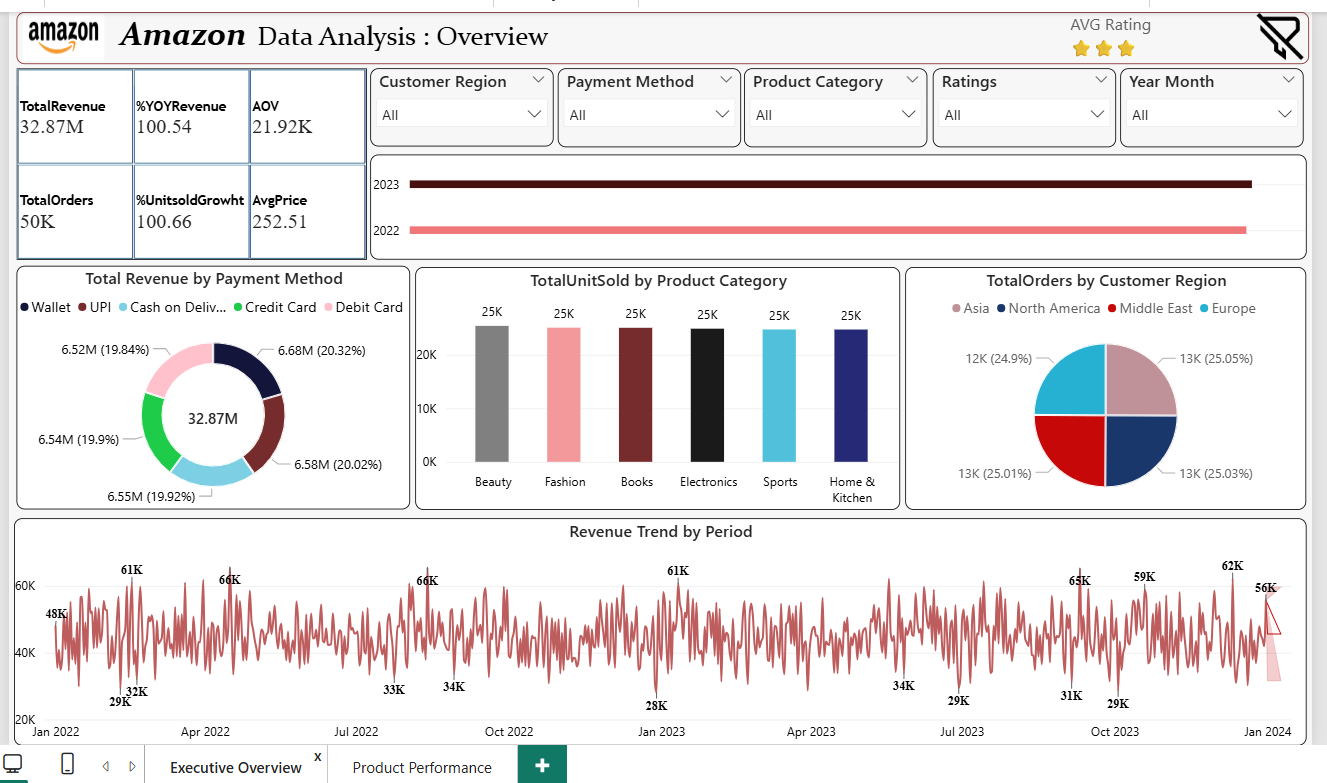

Layout of this report page (visuals, bound fields, positions):
{"tool":"powerbi","page":{"name":"Executive Overview","canvas":[1280,720],"ordinal":0},"visuals":[{"type":"textbox","box":[7.4,0,1268.7,51.5],"z":0,"group":"g2"},{"type":"cardVisual","fields":{"Data":["measure_tbl.TotalRevenue","measure_tbl.%YOYRevenue","measure_tbl.AOV","measure_tbl.TotalOrders","measure_tbl.%UnitsoldGrowht","measure_tbl.AvgPrice"]},"box":[7.4,55.2,344,189],"z":0},{"type":"donutChart","title":"Total Revenue by Payment Method","fields":{"Category":["Amazon_dt.payment_method"],"Y":["measure_tbl.TotalRevenue"]},"box":[7.4,249.1,386.5,239.3],"z":0,"group":"g1"},{"type":"image","box":[13.5,2.5,79.8,45.4],"z":1000,"group":"g2"},{"type":"cardVisual","fields":{"Data":["measure_tbl.TotalRevenue"]},"box":[175.1,386.4,65,30.7],"z":1000,"group":"g1"},{"type":"lineChart","title":"Revenue Trend by Period","fields":{"Category":["calendar_tbl.date"],"Y":["measure_tbl.TotalRevenue"]},"box":[4.9,496.7,1268.7,223.3],"z":1000},{"type":"cardVisual","fields":{"Data":["measure_tbl.Star_Rating"]},"box":[1041.8,0,98.2,47.9],"z":2000,"group":"g2"},{"type":"clusteredBarChart","fields":{"Category":["calendar_tbl.year"],"Y":["measure_tbl.TotalUnitSold"]},"box":[354.6,139.9,919,103.1],"z":2000},{"type":"image","box":[1224.6,0,46.6,47.9],"z":3000,"group":"g2"},{"type":"clusteredColumnChart","title":"TotalUnitSold by Product Category","fields":{"Category":["Amazon_dt.product_category"],"Y":["measure_tbl.TotalUnitSold"]},"box":[398.8,250.3,476.1,238],"z":3000},{"type":"pieChart","title":"TotalOrders by Customer Region","fields":{"Category":["Amazon_dt.customer_region"],"Y":["measure_tbl.TotalOrders"]},"box":[879.8,250.3,393.9,238],"z":4000},{"type":"slicer","fields":{"Values":["Amazon_dt.customer_region"]},"box":[354.6,55.2,180,77],"z":5000},{"type":"slicer","fields":{"Values":["Amazon_dt.payment_method"]},"box":[538.7,55.2,180.4,77.3],"z":6000},{"type":"slicer","fields":{"Values":["Amazon_dt.product_category"]},"box":[721.5,55.2,180.4,77.3],"z":7000},{"type":"slicer","fields":{"Values":["Amazon_dt.rating"]},"box":[906.8,55.2,180.4,77.3],"z":8000},{"type":"slicer","fields":{"Values":["calendar_tbl.year_month"]},"box":[1090.8,55.2,180.4,77.3],"z":9000},{"type":"group","id":"g1","title":"Payment method group","box":[7.4,249.1,386.5,239.3],"z":10000},{"type":"group","id":"g2","title":"Header","box":[7.4,0,1268.7,51.5],"z":11000}]}

Visuals, with their boxes on the page's 1280x720 design canvas (x1, y1, x2, y2). These are canvas units, not pixel positions in the 1327x783 screenshot, which may show the page scaled, cropped or inside an application window:
textbox: [x1=7, y1=0, x2=1276, y2=52]
cardVisual - measure_tbl.TotalRevenue x measure_tbl.%YOYRevenue: [x1=7, y1=55, x2=351, y2=244]
"Total Revenue by Payment Method" donutChart: [x1=7, y1=249, x2=394, y2=488]
image: [x1=14, y1=2, x2=93, y2=48]
cardVisual - measure_tbl.TotalRevenue: [x1=175, y1=386, x2=240, y2=417]
"Revenue Trend by Period" lineChart: [x1=5, y1=497, x2=1274, y2=720]
cardVisual - measure_tbl.Star_Rating: [x1=1042, y1=0, x2=1140, y2=48]
clusteredBarChart - calendar_tbl.year x measure_tbl.TotalUnitSold: [x1=355, y1=140, x2=1274, y2=243]
image: [x1=1225, y1=0, x2=1271, y2=48]
"TotalUnitSold by Product Category" clusteredColumnChart: [x1=399, y1=250, x2=875, y2=488]
"TotalOrders by Customer Region" pieChart: [x1=880, y1=250, x2=1274, y2=488]
slicer - Amazon_dt.customer_region: [x1=355, y1=55, x2=535, y2=132]
slicer - Amazon_dt.payment_method: [x1=539, y1=55, x2=719, y2=132]
slicer - Amazon_dt.product_category: [x1=722, y1=55, x2=902, y2=132]
slicer - Amazon_dt.rating: [x1=907, y1=55, x2=1087, y2=132]
slicer - calendar_tbl.year_month: [x1=1091, y1=55, x2=1271, y2=132]
"Payment method group" group: [x1=7, y1=249, x2=394, y2=488]
"Header" group: [x1=7, y1=0, x2=1276, y2=52]
